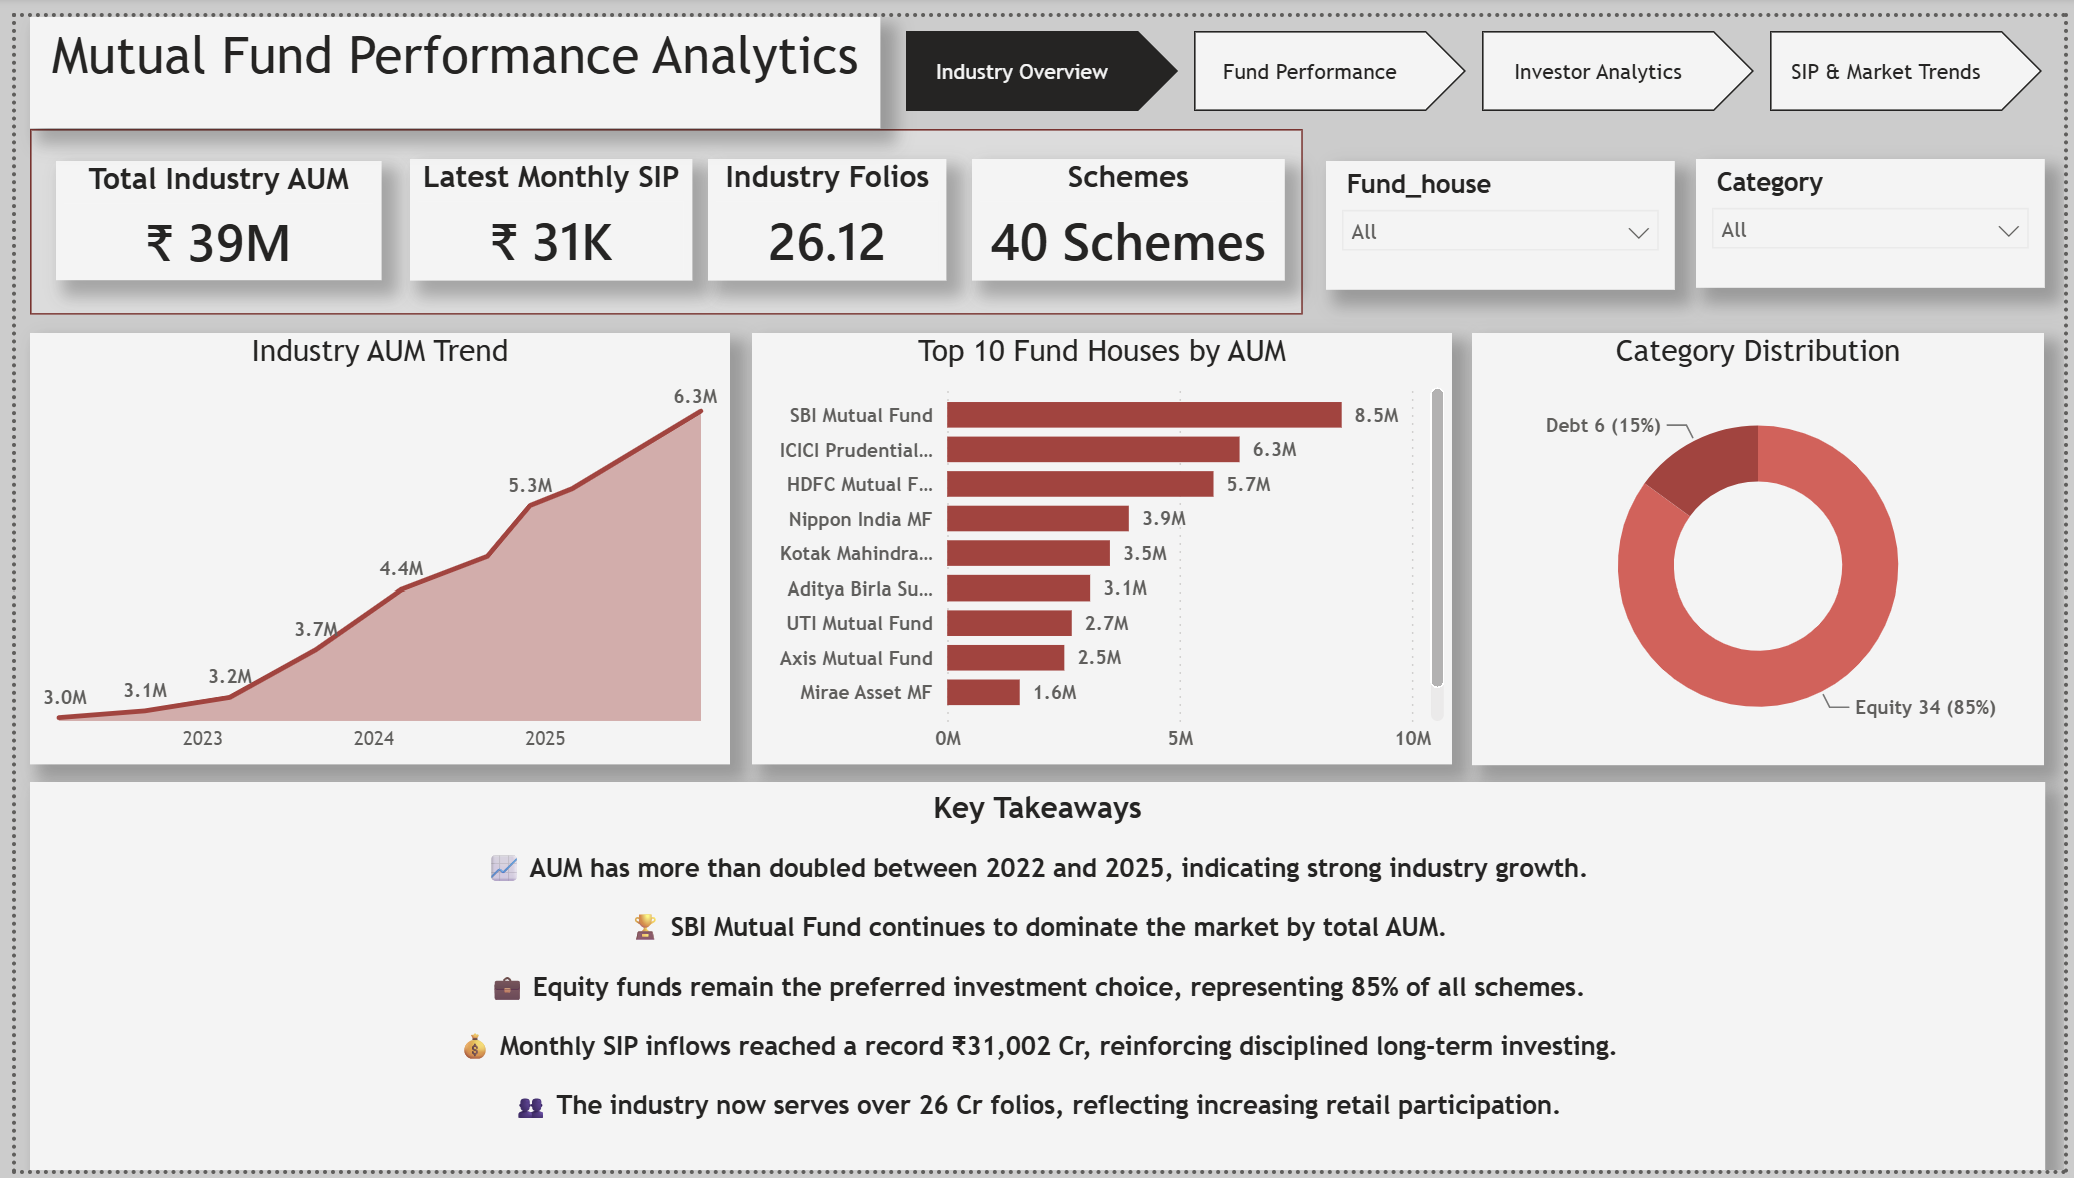

This screenshot's page, from the dashboard's own definition file:
{"tool":"powerbi","page":{"name":"Industry Overview","canvas":[1280,720],"ordinal":0},"visuals":[{"type":"shape","box":[9.3,69.6,795.6,116.1],"z":0},{"type":"cardVisual","title":"Total Industry AUM","fields":{"Data":["DAX_Measures.Total AUM"]},"box":[24.4,90.1,203.3,74.6],"z":1000},{"type":"cardVisual","title":"Latest Monthly SIP","fields":{"Data":["DAX_Measures.Latest SIP Inflow"]},"box":[246.1,88.2,176.4,75.8],"z":2000},{"type":"cardVisual","title":"Industry Folios","fields":{"Data":["DAX_Measures.Latest Folios"]},"box":[432.2,88.8,149.2,75.9],"z":3000},{"type":"cardVisual","title":"Schemes","fields":{"Data":["DAX_Measures.Total Schemes"]},"box":[596.9,88.8,195.5,75.9],"z":4000},{"type":"lineChart","title":"Industry AUM Trend","fields":{"Y":["DAX_Measures.Industry AUM"],"Category":["03_aum_by_fund_house.date.Variation.Date Hierarchy.Year","03_aum_by_fund_house.date.Variation.Date Hierarchy.Month"]},"box":[9,198.1,437.4,268.9],"z":5000},{"type":"clusteredBarChart","title":"Top 10 Fund Houses by AUM","fields":{"Category":["03_aum_by_fund_house.fund_house"],"Y":["Sum(03_aum_by_fund_house.aum_crore)"]},"box":[460.5,198.1,437.4,268.9],"z":6000},{"type":"donutChart","title":"Category Distribution","fields":{"Category":["01_fund_master.category"],"Y":["CountNonNull(01_fund_master.scheme_name)"]},"box":[910.1,198.1,357.5,269.3],"z":7000},{"type":"slicer","fields":{"Values":["01_fund_master.fund_house"]},"box":[818.8,89.8,218.2,80.5],"z":8000},{"type":"slicer","fields":{"Values":["01_fund_master.category"]},"box":[1049.4,88.2,218.2,80.5],"z":9000},{"type":"pageNavigator","box":[555.7,9,712.7,50.2],"z":10000},{"type":"textbox","box":[9,0,531.3,69.5],"z":11000},{"type":"textbox","box":[9,477.3,1259.4,243.1],"z":11001}]}

Visuals, with their boxes in screenshot pixels (x1, y1, x2, y2), scaled from the page's 1280x720 canvas onto the 2074x1178 screenshot:
shape: 15:114:1304:304
"Total Industry AUM" cardVisual: 40:147:369:269
"Latest Monthly SIP" cardVisual: 399:144:685:268
"Industry Folios" cardVisual: 700:145:942:269
"Schemes" cardVisual: 967:145:1284:269
"Industry AUM Trend" lineChart: 15:324:723:764
"Top 10 Fund Houses by AUM" clusteredBarChart: 746:324:1455:764
"Category Distribution" donutChart: 1475:324:2054:765
slicer - 01_fund_master.fund_house: 1327:147:1680:279
slicer - 01_fund_master.category: 1700:144:2054:276
pageNavigator: 900:15:2055:97
textbox: 15:0:875:114
textbox: 15:781:2055:1177
